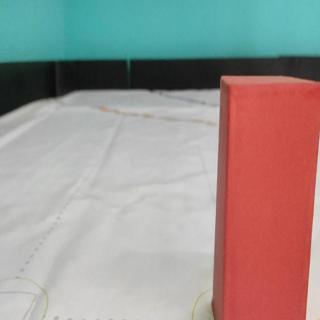redbox: (209, 72, 317, 320)
